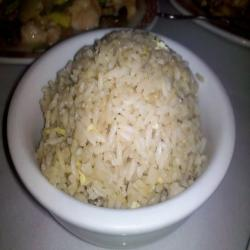rice: (47, 31, 209, 219)
